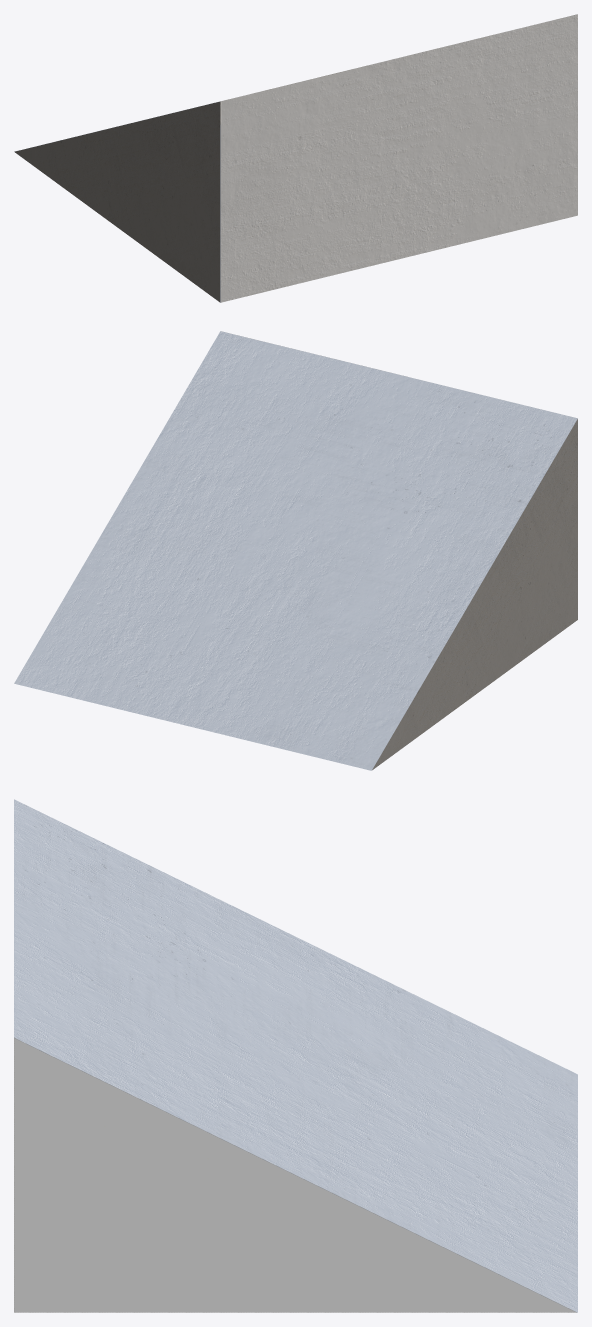
Rendered from stairBlock.fbx.
3 renders of one model, top to bottom at view 1: azimuth 30°, elevation 25°; view 2: azimuth 150°, elevation 25°; view 3: azimuth 270°, elevation 25°, orthographic. The views are drawn at different scales.
Visible parts, largest first — view 1: Cube.248; view 2: Cube.248; view 3: Cube.248.
Boxes of the visible parts, x1,y1,x2,y2 form: Cube.248: [14, 14, 577, 302]; Cube.248: [14, 331, 577, 770]; Cube.248: [14, 799, 577, 1312].
Size of the model in its own units: 300 by 162 by 300.
Materials: 1 (1 with a texture image).
